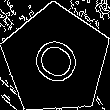O_SE: (24, 28, 88, 92)
